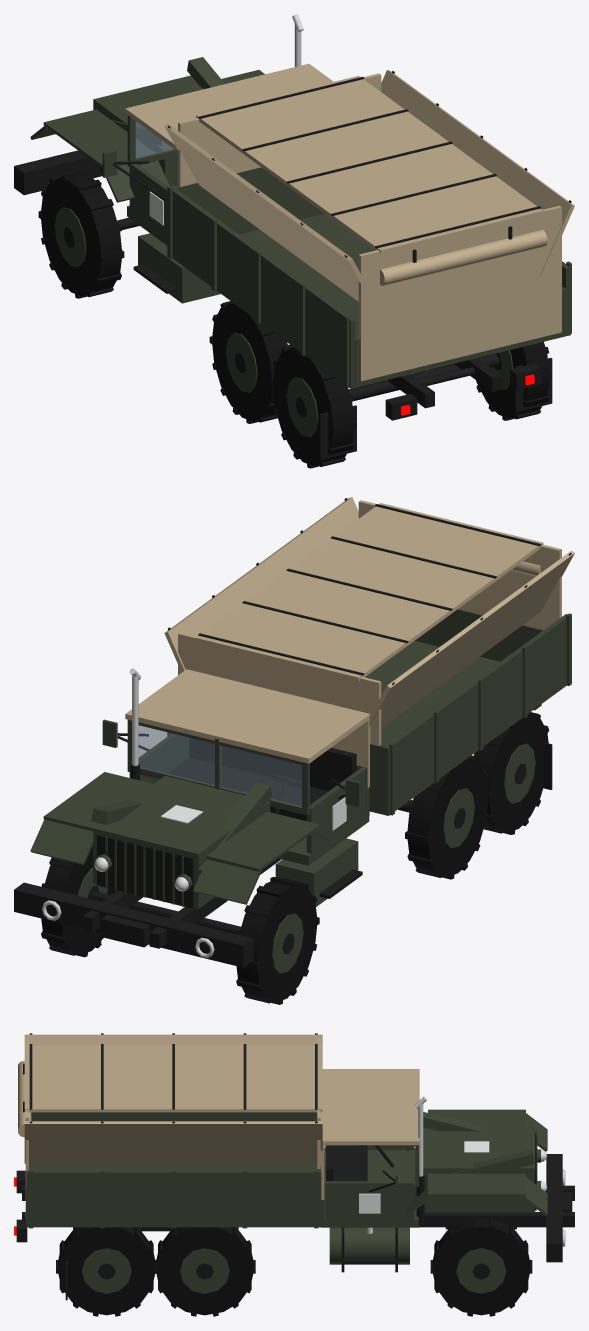
Rendered from m35-truck.glb.
3 renders of one model, top to bottom at view 1: azimuth 30°, elevation 25°; view 2: azimuth 150°, elevation 25°; view 3: azimuth 270°, elevation 25°, orthographic. The views are drawn at different scales.
Visible parts, largest first — view 1: Mesh_TarpTop, Mesh_TarpBackSheet, Mesh_BedWallL, Mesh_TarpSlopeL, Mesh_WheelFL_Tire, Mesh_TarpSlopeR, Mesh_BedFloor, Mesh_CabRoofCanvas, Mesh_WheelRL_Tire, Mesh_WheelML_Tire, Mesh_BedFrontWall, Mesh_TarpRollup (+20 smaller); view 2: Mesh_TarpTop, Mesh_CabRoofCanvas, Mesh_BedWallL, Mesh_HoodBody, Mesh_TarpSlopeL, Mesh_TarpFrontSheet, Mesh_FrontBumper, Mesh_WheelFL_Tire, Mesh_TarpSlopeR, Mesh_WheelML_Tire, Mesh_BedFloor, Mesh_WheelRL_Tire (+28 smaller); view 3: Mesh_TarpTop, Mesh_BedWallR, Mesh_TarpSlopeR, Mesh_CabRoofCanvas, Mesh_HoodBody, Mesh_WheelFR_Tire, Mesh_WheelMR_Tire, Mesh_WheelRR_Tire, Mesh_BedFloor, Mesh_CabDoorR, Mesh_TarpSlopeL, Mesh_BedWallL (+17 smaller).
Boxes of the visible parts, box(x1,y1,x2,y2) form: Mesh_TarpTop: box(196, 75, 543, 254); Mesh_TarpBackSheet: box(358, 205, 561, 381); Mesh_BedWallL: box(172, 186, 355, 385); Mesh_TarpSlopeL: box(164, 123, 383, 317); Mesh_WheelFL_Tire: box(41, 175, 121, 296); Mesh_TarpSlopeR: box(381, 70, 574, 277); Mesh_BedFloor: box(172, 213, 570, 388); Mesh_CabRoofCanvas: box(125, 63, 333, 151); Mesh_WheelRL_Tire: box(273, 347, 353, 466); Mesh_WheelML_Tire: box(212, 302, 287, 421); Mesh_BedFrontWall: box(171, 167, 324, 234); Mesh_TarpRollup: box(380, 229, 547, 285); Mesh_TarpTop: box(196, 503, 543, 681); Mesh_CabRoofCanvas: box(125, 669, 370, 763); Mesh_BedWallL: box(386, 614, 567, 812); Mesh_HoodBody: box(93, 776, 270, 908); Mesh_TarpSlopeL: box(369, 550, 574, 728); Mesh_TarpFrontSheet: box(178, 632, 381, 745); Mesh_FrontBumper: box(14, 882, 253, 967); Mesh_WheelFL_Tire: box(236, 881, 317, 1002); Mesh_TarpSlopeR: box(164, 497, 358, 672); Mesh_WheelML_Tire: box(407, 758, 488, 877); Mesh_BedFloor: box(365, 641, 566, 815); Mesh_WheelRL_Tire: box(473, 714, 548, 832); Mesh_TarpTop: box(24, 1045, 322, 1112); Mesh_BedWallR: box(26, 1170, 320, 1225); Mesh_TarpSlopeR: box(24, 1121, 322, 1163); Mesh_CabRoofCanvas: box(320, 1069, 419, 1145); Mesh_HoodBody: box(423, 1126, 534, 1212); Mesh_WheelFR_Tire: box(432, 1218, 529, 1315); Mesh_WheelMR_Tire: box(156, 1227, 253, 1315); Mesh_WheelRR_Tire: box(58, 1227, 155, 1315); Mesh_BedFloor: box(26, 1163, 320, 1227); Mesh_CabDoorR: box(325, 1181, 414, 1223); Mesh_TarpSlopeL: box(24, 1034, 322, 1044); Mesh_BedWallL: box(31, 1112, 316, 1121).
Bounding box in the file's own units: 2.68 × 2.59 × 6.29.
